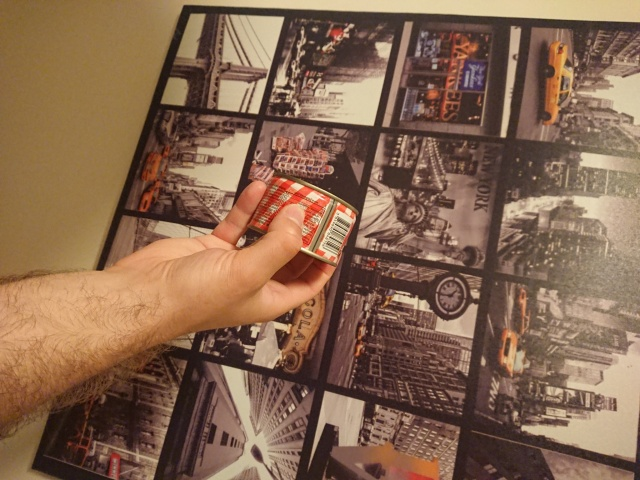Podravka Luncheon Meat 150g: (245, 170, 362, 269)
